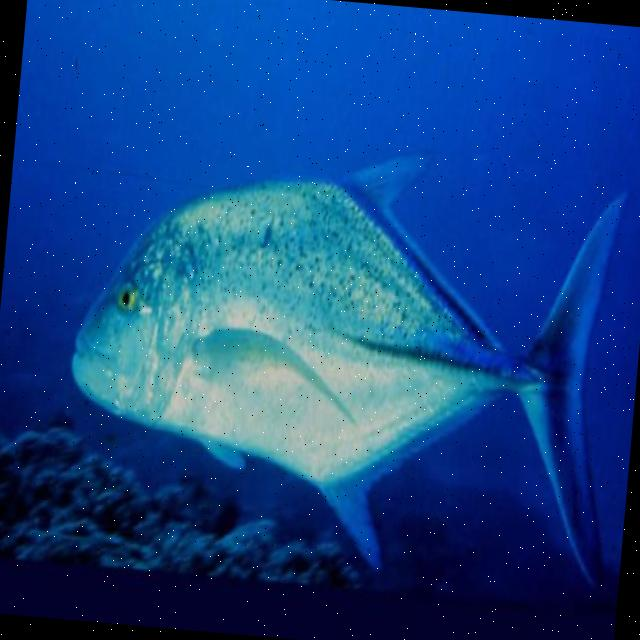ikan: (52, 118, 640, 598)
